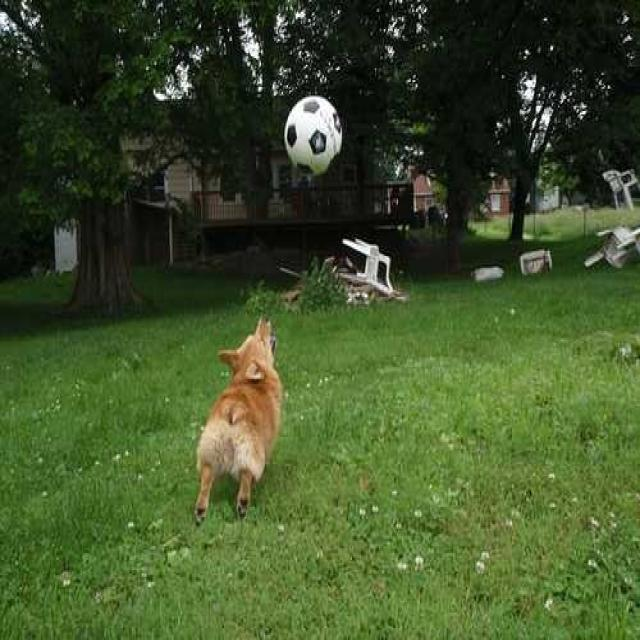ball: (285, 94, 343, 171)
